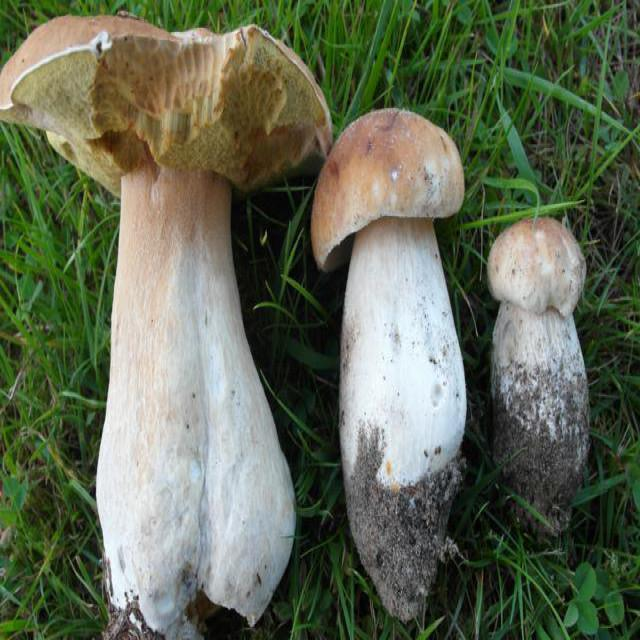Boletus: (0, 17, 329, 636), (314, 111, 471, 623), (489, 217, 588, 517)
